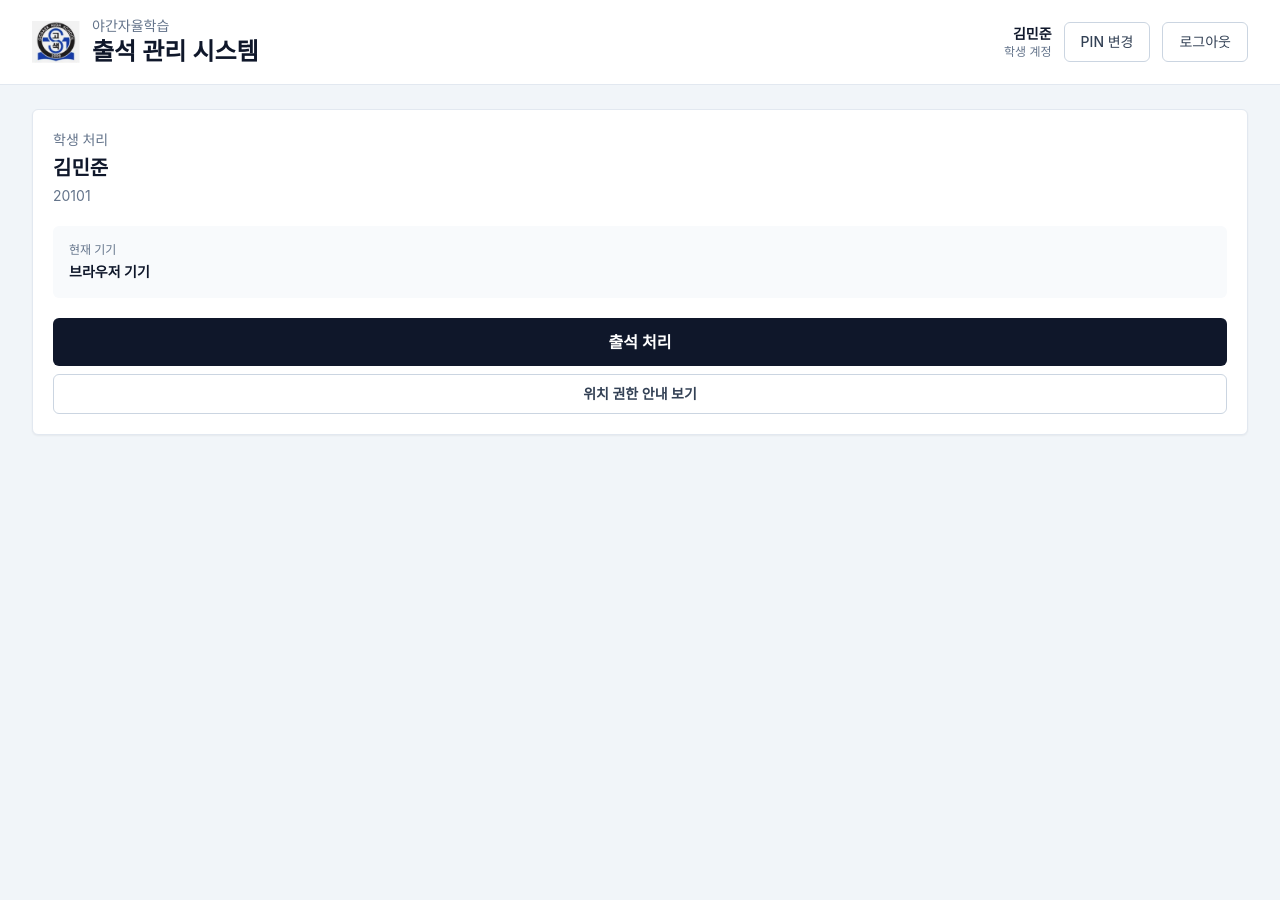
Test case: logged-in student changes PIN and returns to login
Click the button "PIN 변경": (1107, 42) [1064, 22, 1150, 62]
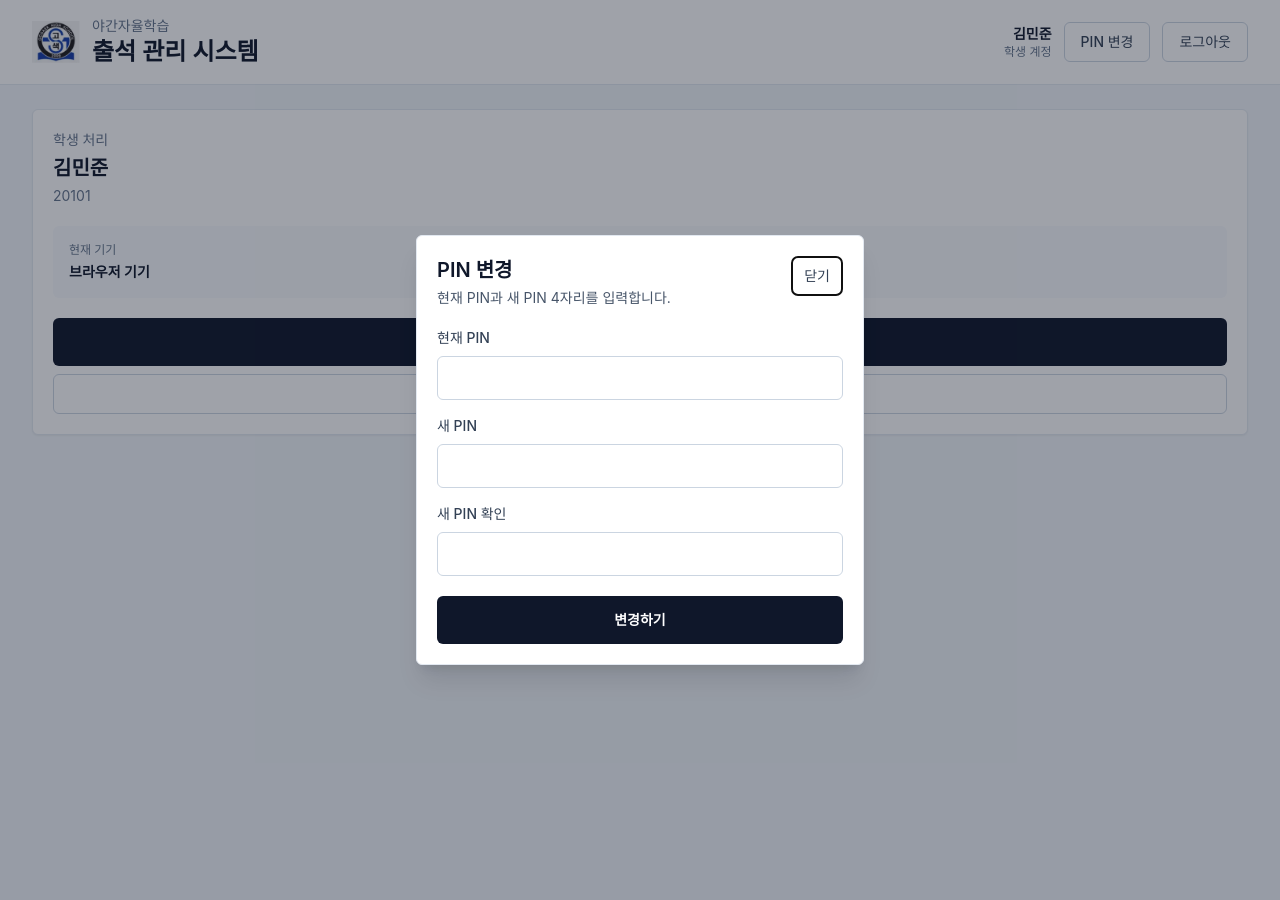
In the password field labelled "현재 PIN": (640, 378) [437, 356, 843, 400], type "0000"
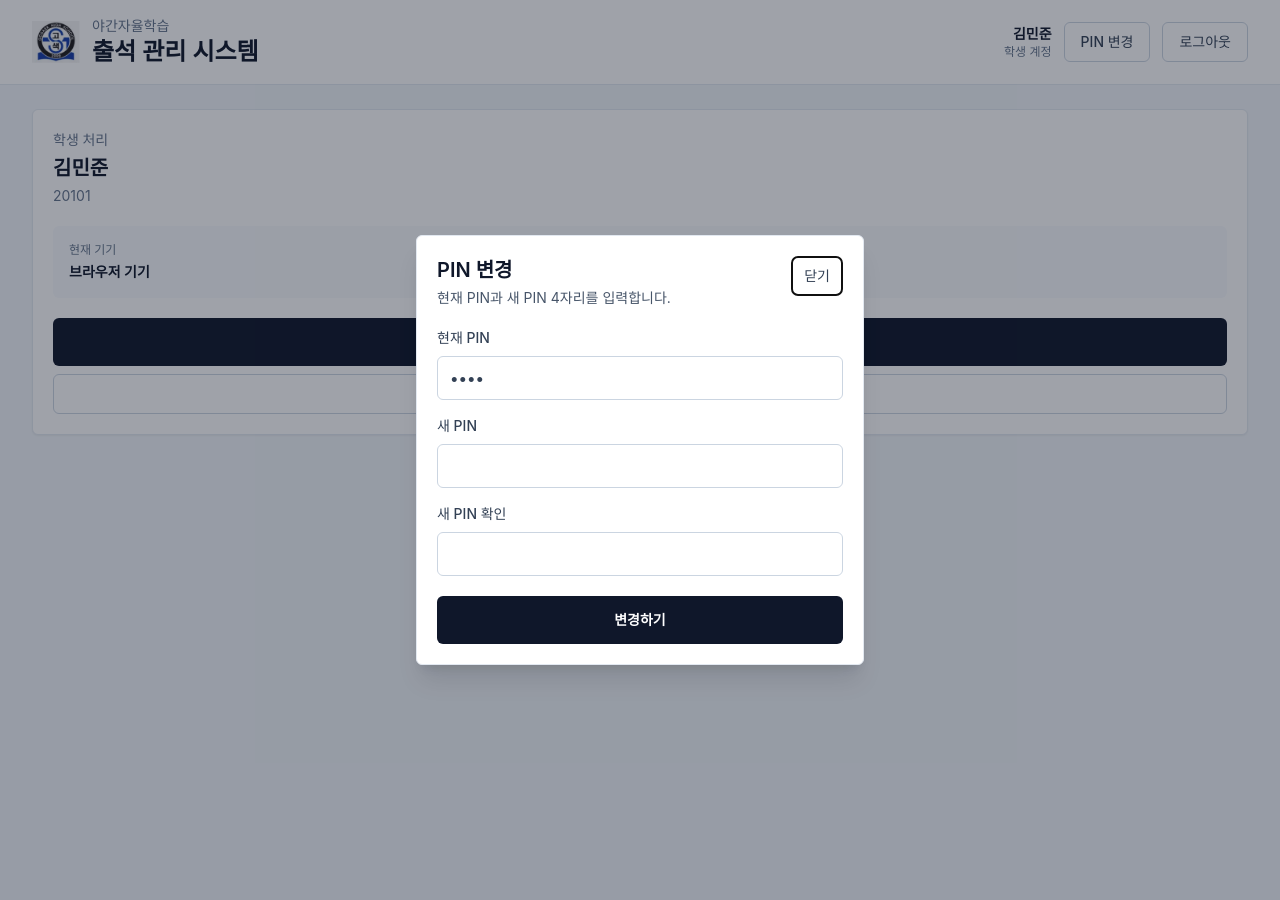
In the password field labelled "새 PIN": (640, 466) [437, 444, 843, 488], type "0123"
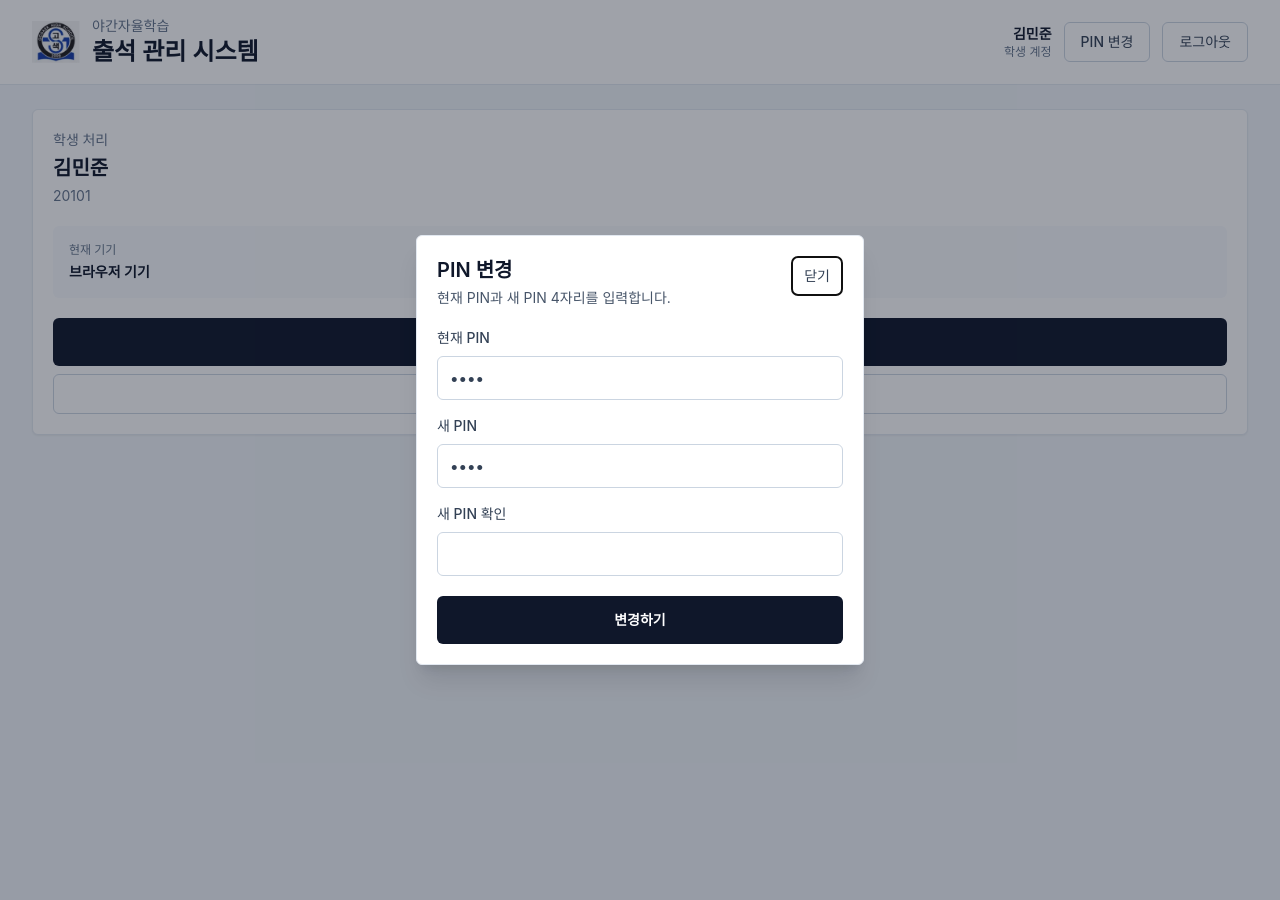
In the password field labelled "새 PIN 확인": (640, 554) [437, 532, 843, 576], type "0123"
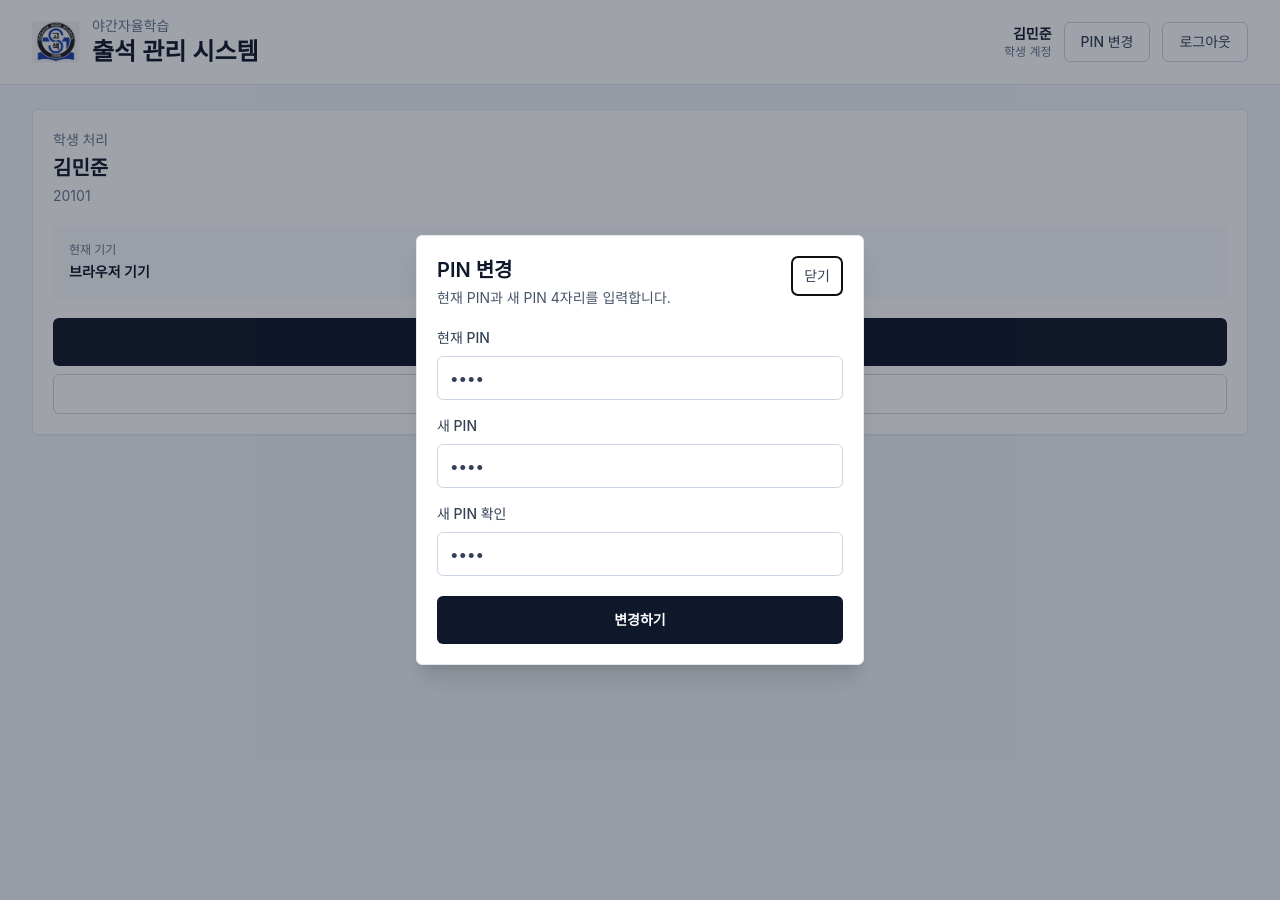
Click the button "변경하기": (640, 620) [437, 596, 843, 644]
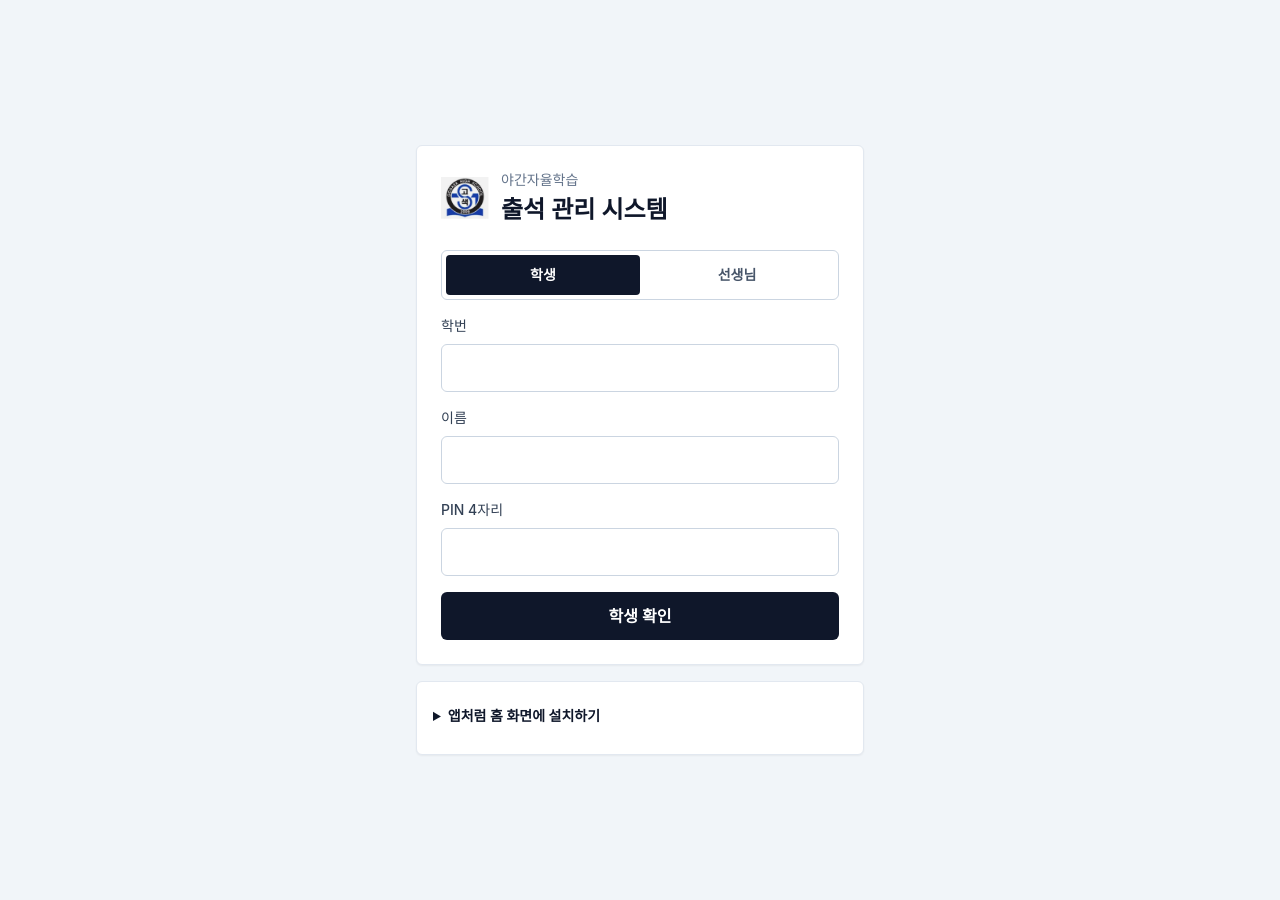
Expected: the button "학생 확인" is shown, [441, 592, 839, 640]
